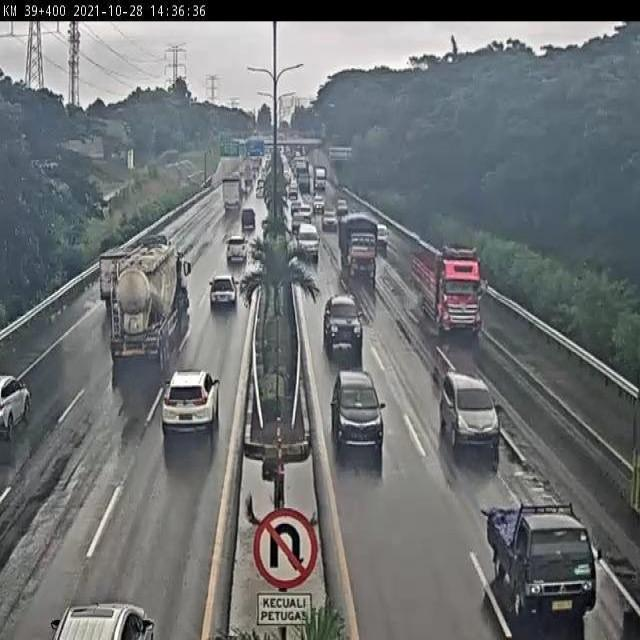truck: (108, 248, 190, 360), (414, 243, 482, 332), (337, 208, 379, 276)
